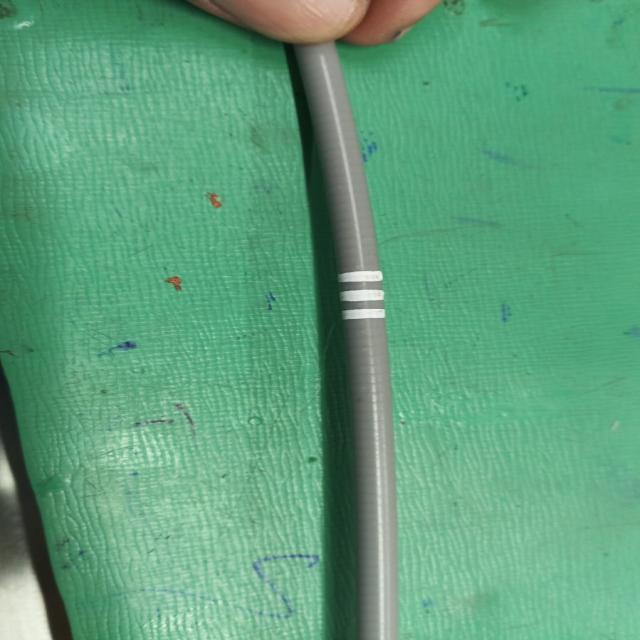white: (333, 272, 385, 321)
